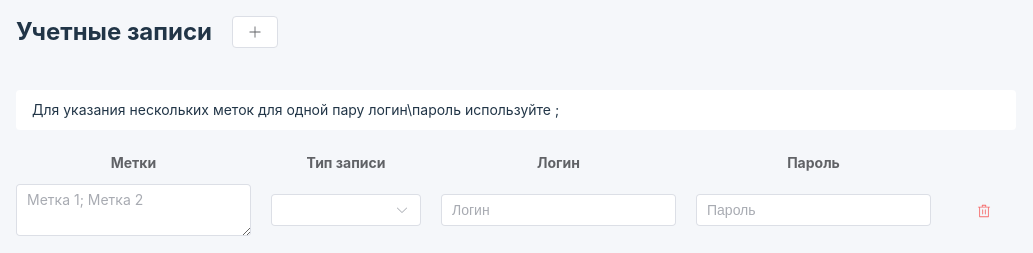
Scenario: AccountManager.vue › removes account on delete button click
Expected: the number of elements with class "account-item" is 1, [16,184,1016,236]
Step 1. Click the 2nd button → (984,211), box [974,201,994,221]
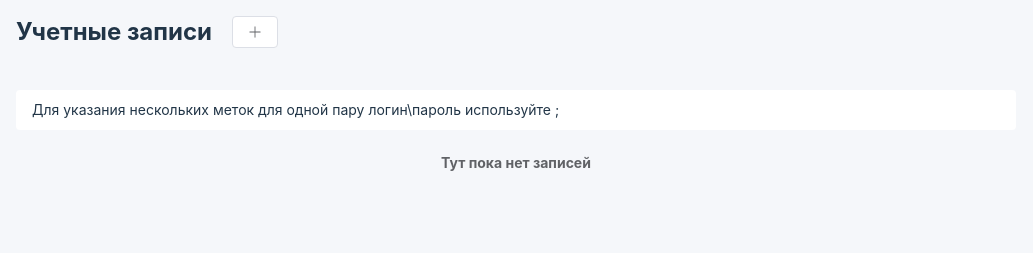
Result: no elements with class "account-item" are shown
